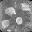people: (4, 7, 16, 17), (1, 19, 11, 28), (15, 16, 23, 25)
